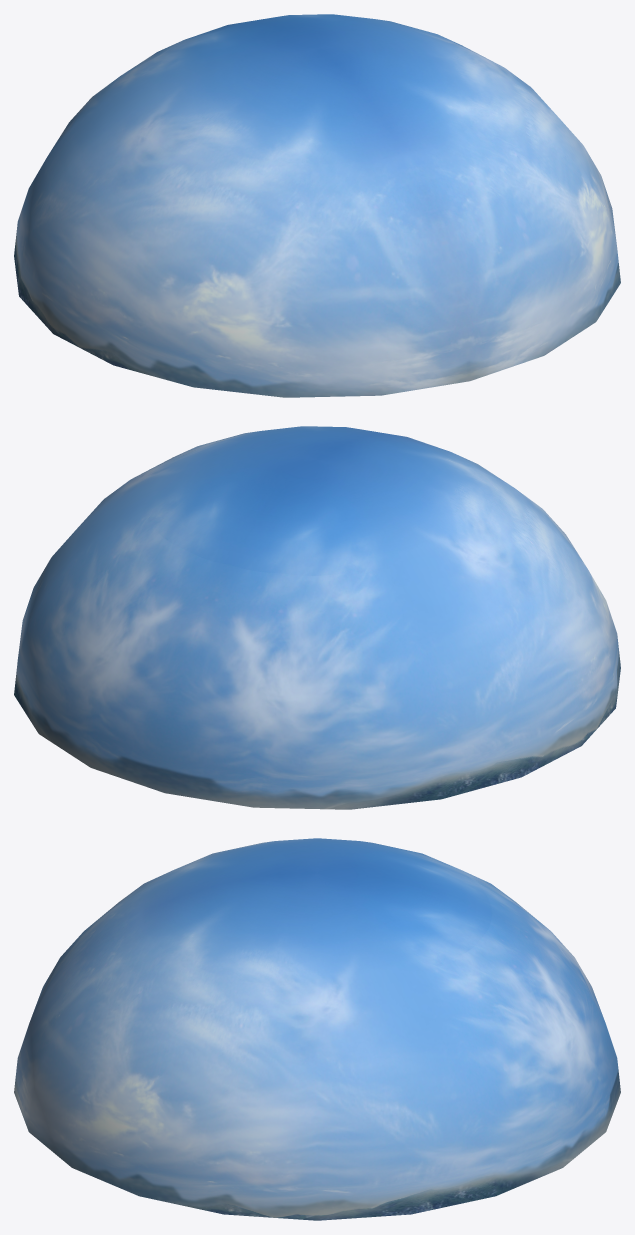
File: skydome.obj
3 renders of one model, top to bottom at view 1: azimuth 30°, elevation 25°; view 2: azimuth 150°, elevation 25°; view 3: azimuth 270°, elevation 25°, orthographic.
Size of the model in its own units: 4000 by 1600 by 4000.
Materials: 1 (1 with a texture image).
